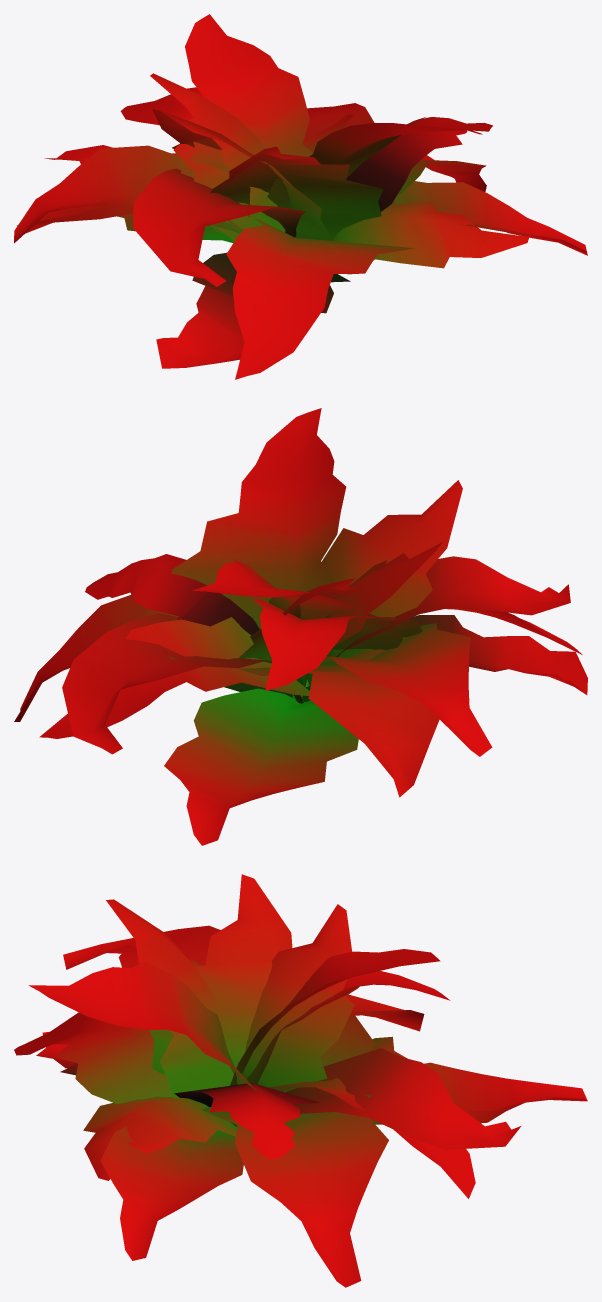
Rendered from Fern3.FBX.
3 renders of one model, top to bottom at view 1: azimuth 30°, elevation 25°; view 2: azimuth 150°, elevation 25°; view 3: azimuth 270°, elevation 25°, orthographic.
Parts seen in each view (by area): view 1: Var3_LOD0; view 2: Var3_LOD0; view 3: Var3_LOD0.
Part boxes in pixels (left/top/right/bottom): Var3_LOD0: left=14, top=14, right=587, bottom=379; Var3_LOD0: left=14, top=408, right=587, bottom=845; Var3_LOD0: left=14, top=874, right=587, bottom=1287.
Size of what is drawn, in the model's own units: 0.5493 by 0.2532 by 0.5659.
